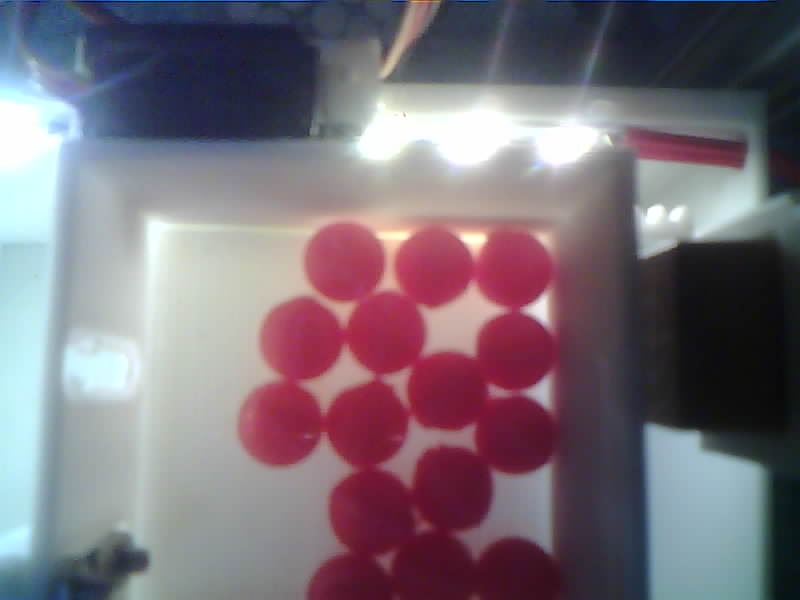Plastic: (238, 382, 318, 472), (259, 298, 340, 382), (333, 472, 413, 555), (350, 293, 427, 376), (324, 383, 402, 464), (411, 451, 491, 529), (410, 352, 488, 430), (389, 535, 473, 600), (474, 535, 558, 600), (398, 231, 472, 304), (308, 226, 382, 298), (479, 232, 551, 306), (480, 399, 552, 471), (479, 318, 550, 386), (306, 557, 391, 600)
